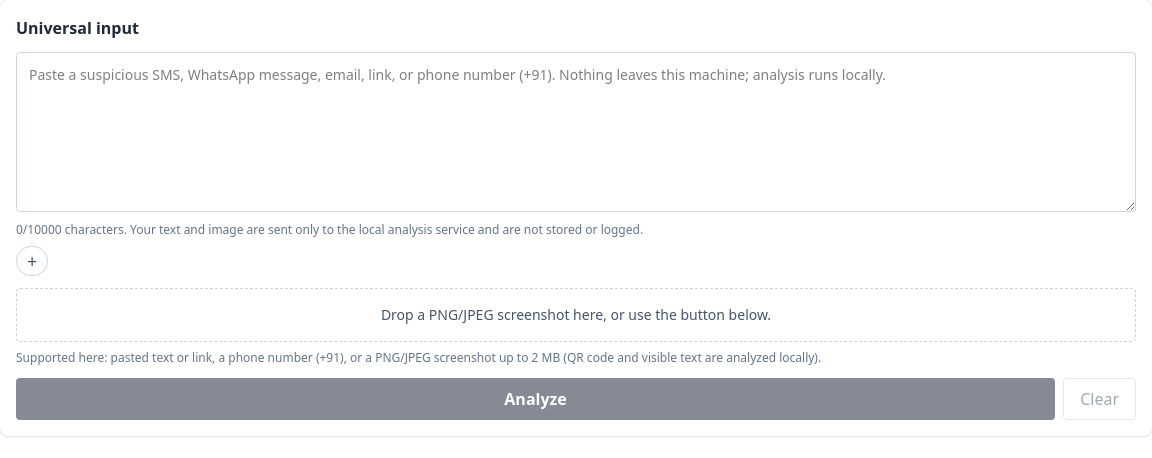
Test: InputPanel › shows the character counter
This screenshot has width=1152, height=458.
Type "hello" into the text box.
click(576, 132); type("hello")  # box [16,52,1136,212]
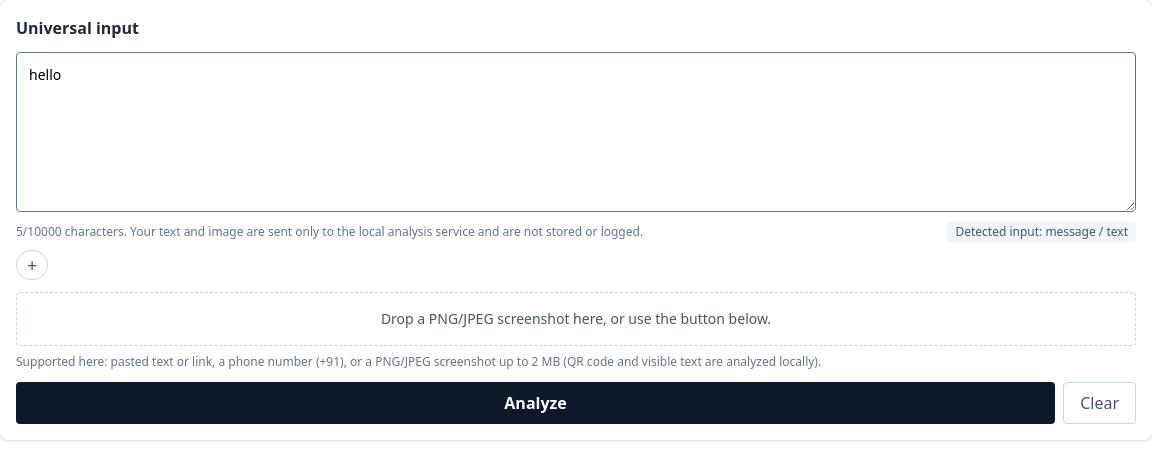
Expected: the text "5/10000 characters" is shown, [16,223,127,240]
